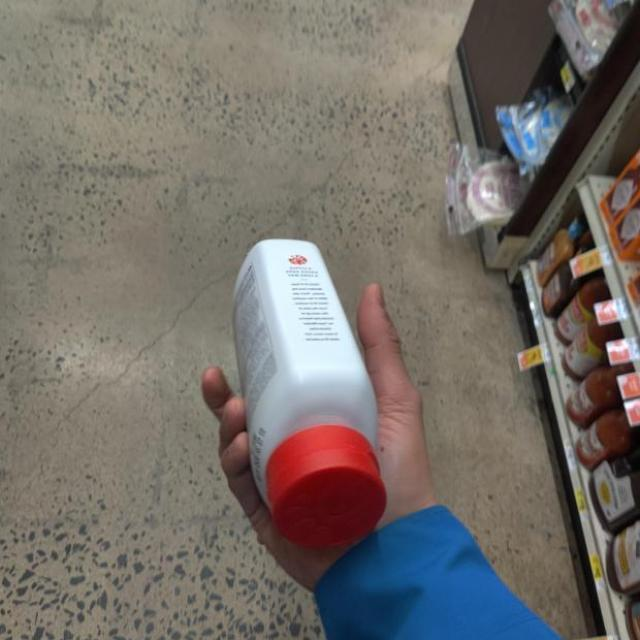Sauce: (218, 230, 393, 552)
